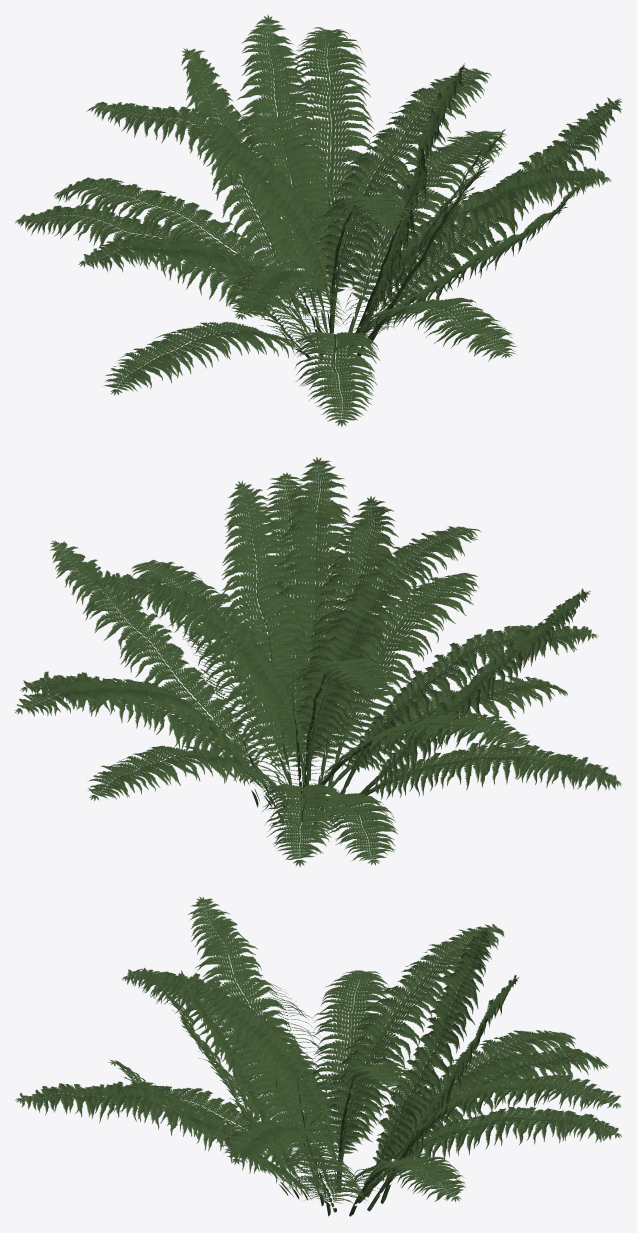
File: Nephrolepis.glb
3 views of the same model, one above another, from view 1: azimuth 30°, elevation 25°; view 2: azimuth 150°, elevation 25°; view 3: azimuth 270°, elevation 25° (orthographic). The views are drawn at different scales.
Parts seen in each view (by area): view 1: AM_154_041_Nephrolepis_Cordifolia; view 2: AM_154_041_Nephrolepis_Cordifolia; view 3: AM_154_041_Nephrolepis_Cordifolia.
Part boxes in pixels (x1,y1,x2,y2): AM_154_041_Nephrolepis_Cordifolia: [15, 15, 622, 426]; AM_154_041_Nephrolepis_Cordifolia: [15, 457, 621, 866]; AM_154_041_Nephrolepis_Cordifolia: [15, 896, 621, 1216].
Size of the model in its own units: 0.9814 by 0.4996 by 1.
Materials: 1 (1 with a texture image).
